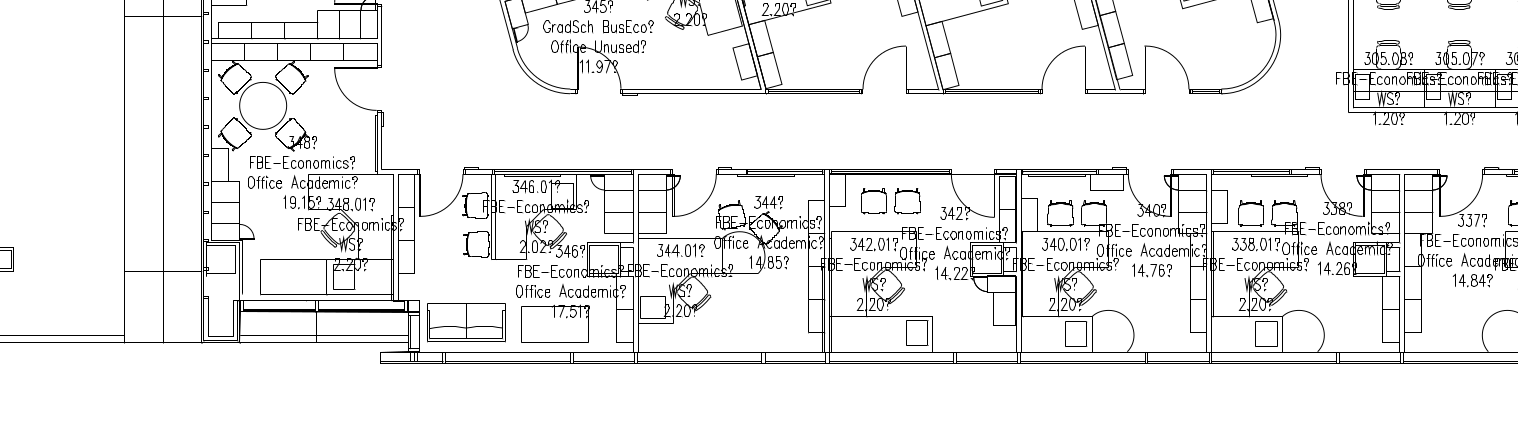door: (330, 61, 387, 120), (416, 162, 464, 223), (668, 163, 716, 224), (948, 164, 996, 225), (1125, 162, 1173, 223), (1318, 164, 1366, 225), (1435, 164, 1483, 225), (1143, 40, 1191, 101), (1039, 38, 1087, 99), (860, 38, 908, 99), (575, 43, 623, 104)
